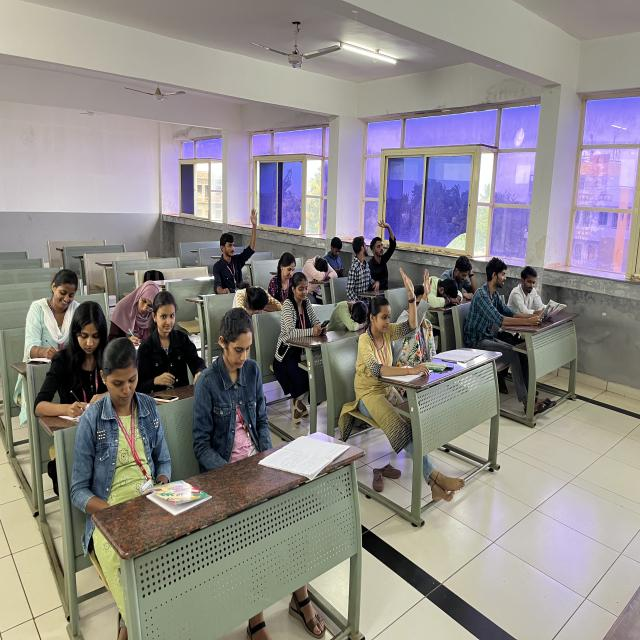Hand Rising: (364, 270, 418, 387), (212, 202, 260, 295), (408, 260, 440, 377), (367, 215, 398, 288)
Reading: (467, 258, 567, 368), (511, 250, 562, 341), (268, 247, 302, 307)
Sleeping: (414, 266, 468, 319), (226, 286, 289, 328), (323, 294, 374, 342)
Using Phone: (79, 336, 168, 546), (190, 302, 278, 466), (276, 268, 334, 376), (323, 232, 349, 287)
Writing: (44, 300, 108, 428), (26, 264, 84, 363), (112, 271, 164, 347)
